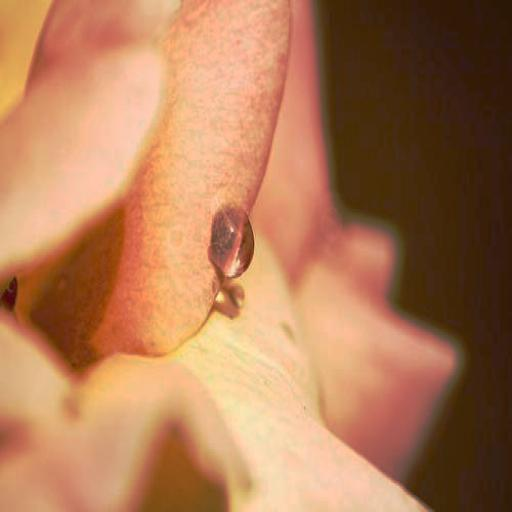rose: (3, 0, 504, 512)
